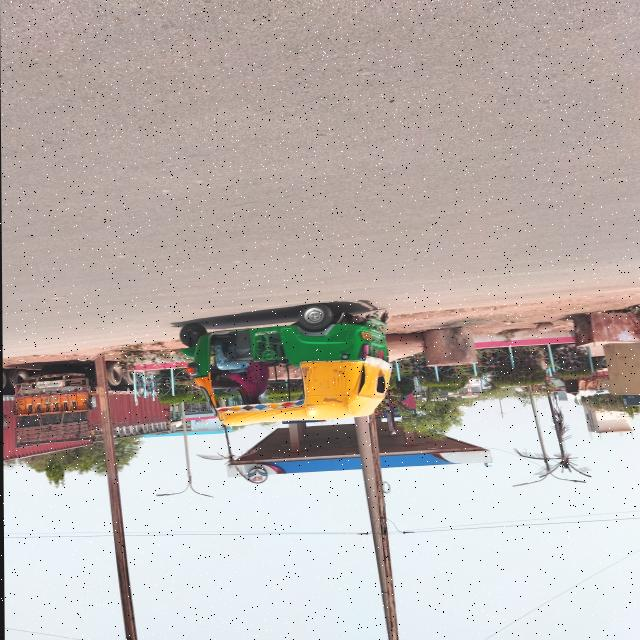plate: (360, 331, 372, 340)
